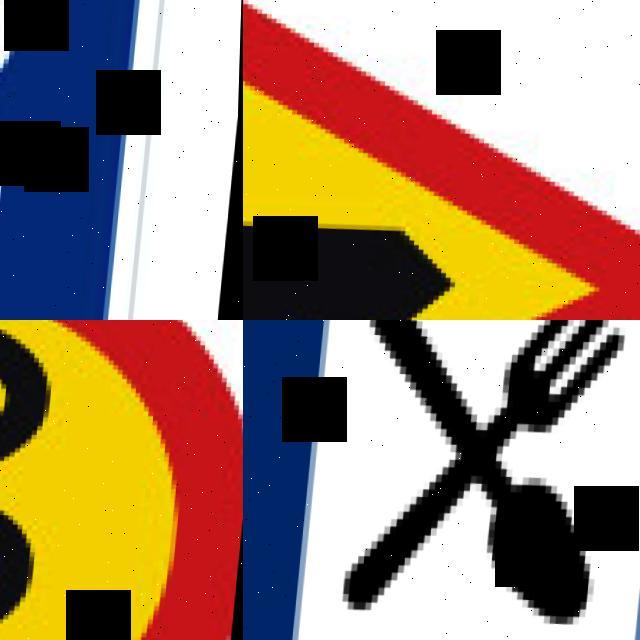166: (243, 0, 640, 320)
55: (0, 320, 243, 640)
Main highways: (0, 0, 184, 320)
Restaurant: (243, 320, 640, 640)
